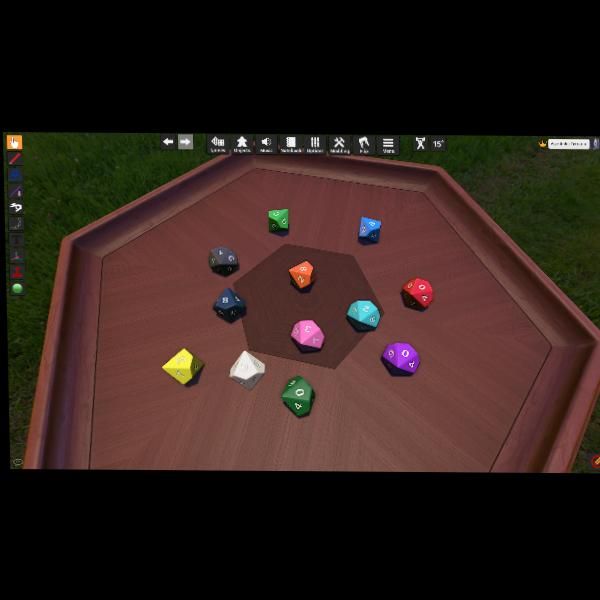d10: (162, 347, 204, 384), (228, 350, 266, 389), (280, 376, 316, 416), (211, 287, 246, 324), (382, 341, 418, 375), (291, 319, 324, 351), (346, 300, 378, 331), (405, 277, 434, 309), (207, 246, 238, 275), (289, 260, 315, 289), (357, 217, 381, 243), (269, 208, 289, 232)
